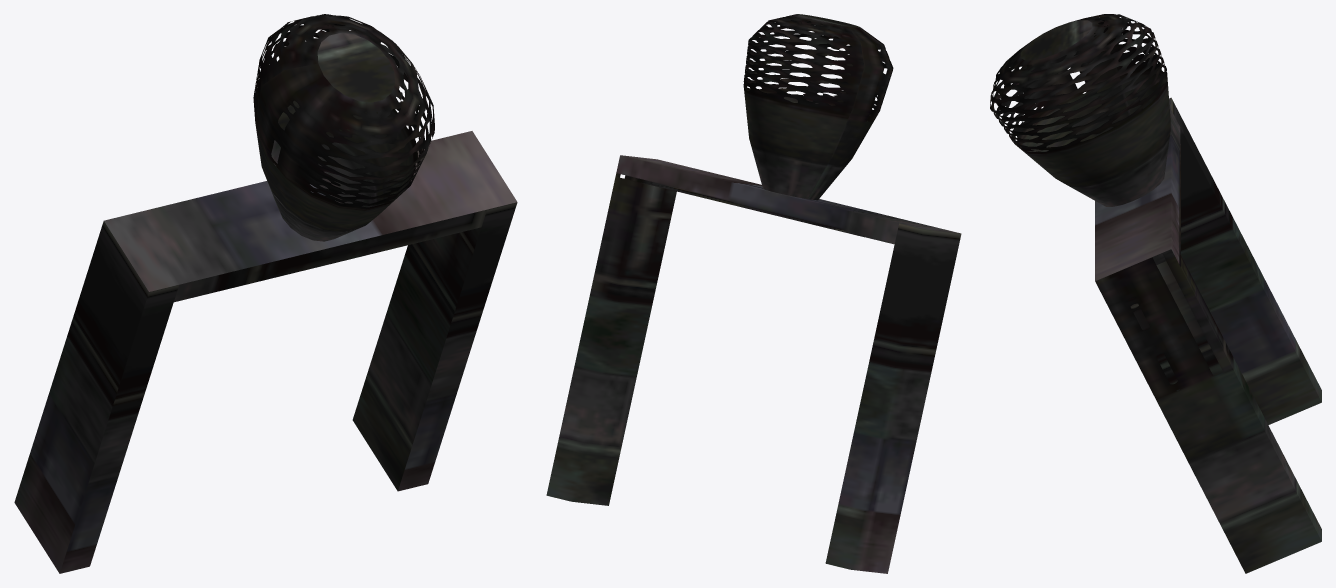
The model's file is SwitchHandle.obj.
3 views of the same model, side by side, from view 1: azimuth 30°, elevation 25°; view 2: azimuth 150°, elevation 25°; view 3: azimuth 270°, elevation 25° (orthographic). The views are drawn at different scales.
Size of the model in its own units: 0.4 by 0.5849 by 0.3703.
